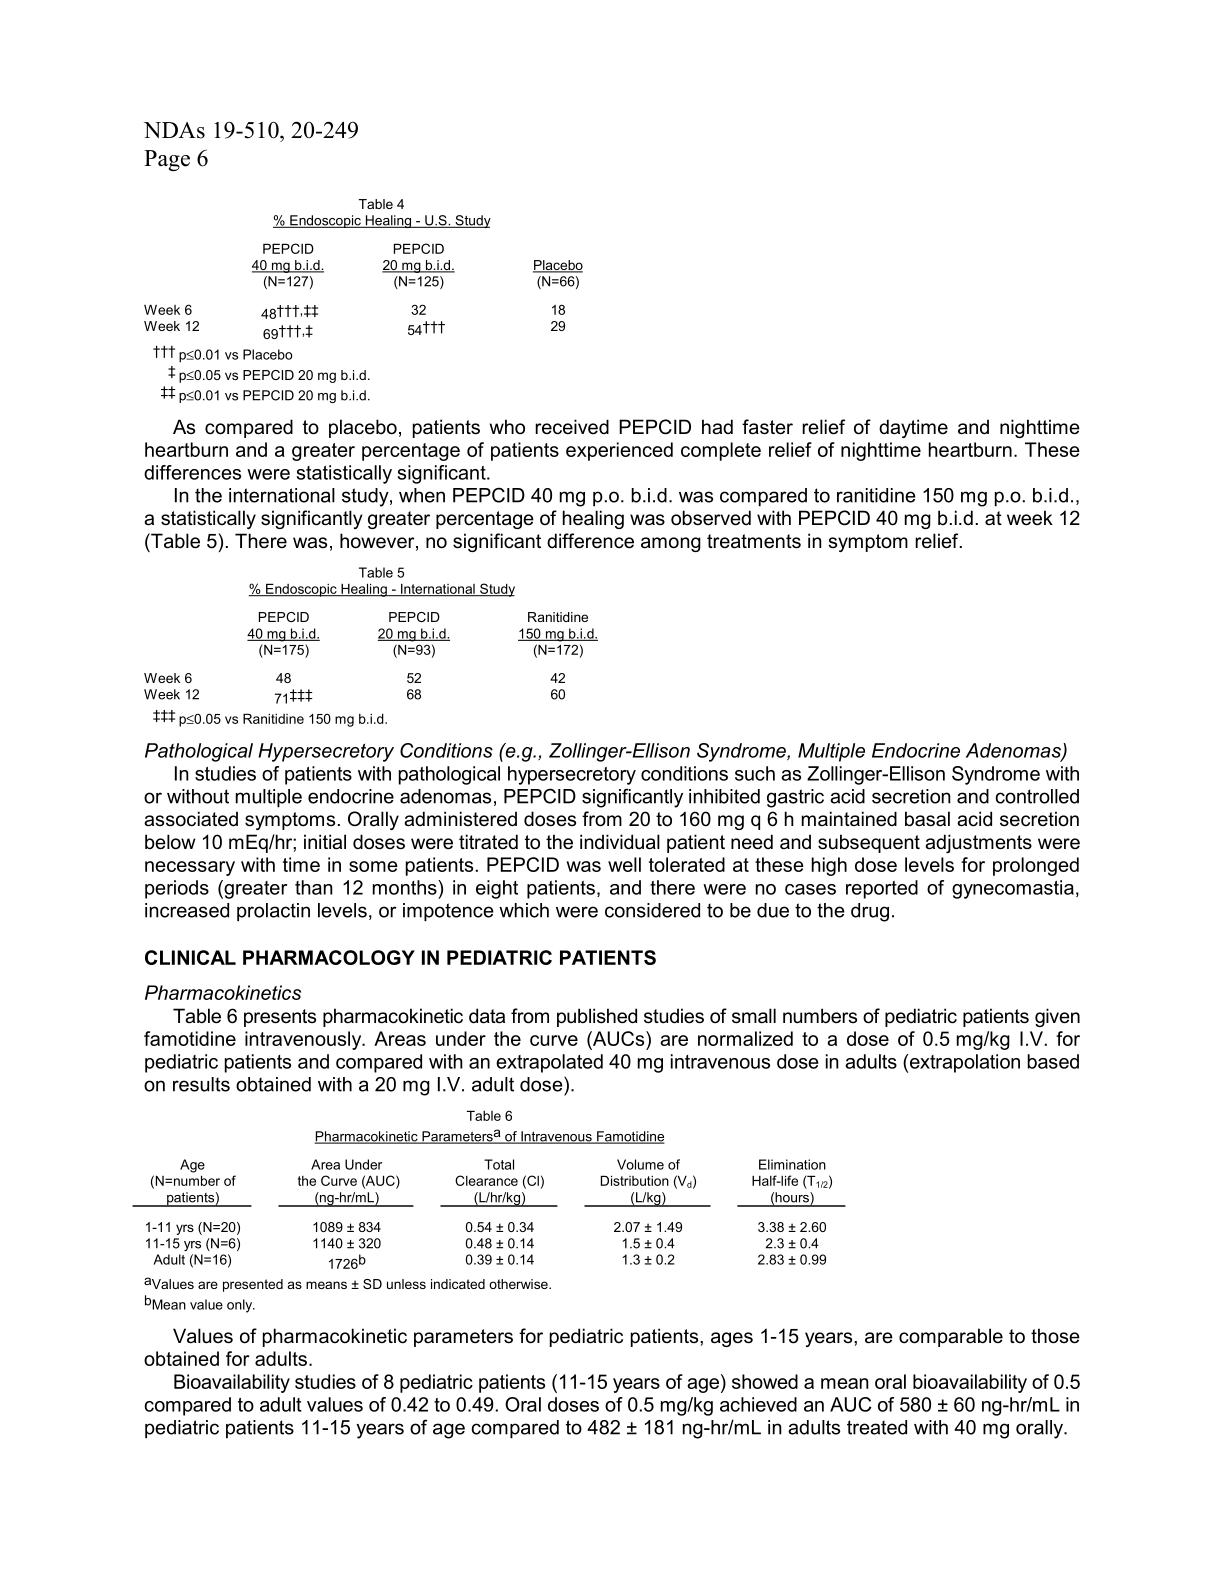nolines: (132, 1144, 847, 1268), (139, 608, 602, 707), (141, 240, 588, 338)
